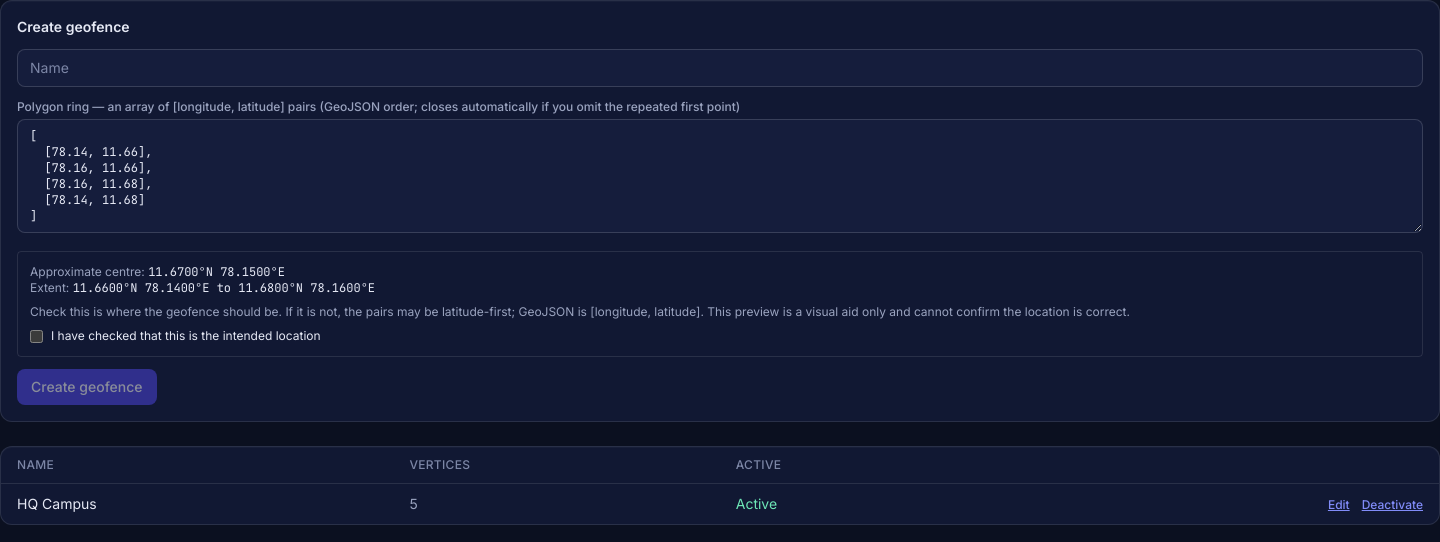
Scenario: GeofenceManagementPanel location preview (D-027) › makes a latitude-first ring visibly land elsewhere, and re-requires confirmation after an edit
The image size is (1440, 542).
Step 1. Click the checkbox labelled "I have checked that this is the intended location" → (36, 336), box x1=30 y1=330 x2=43 y2=342
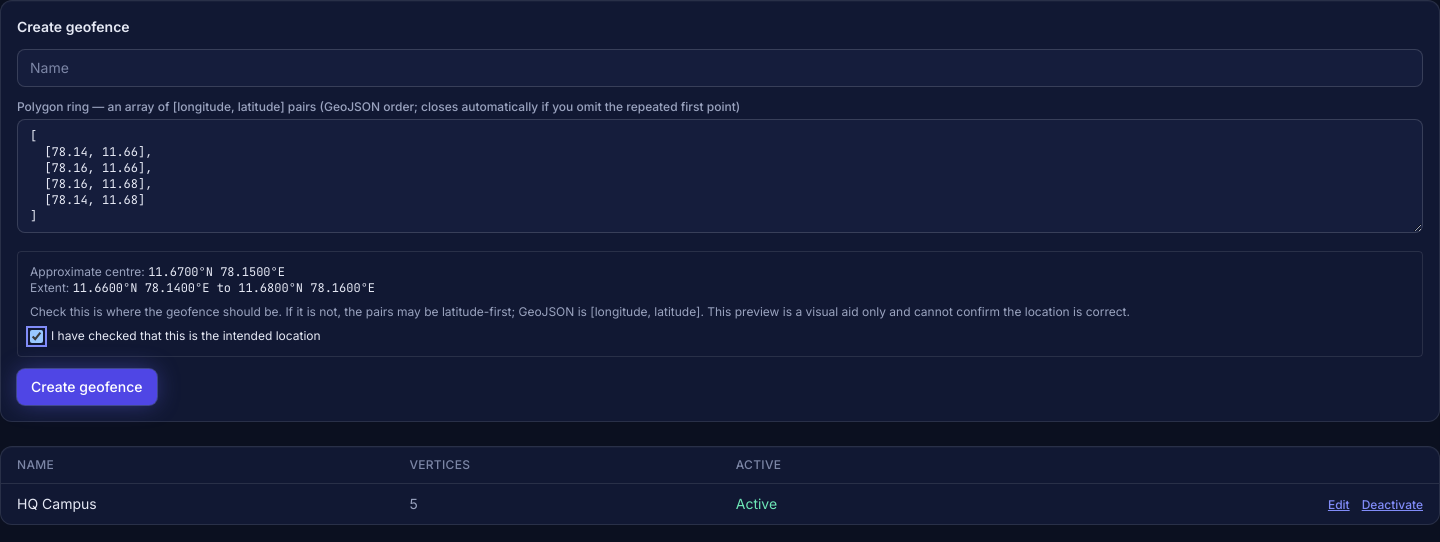
Step 2. Clear the text box named "New polygon ring" → (720, 176), box x1=17 y1=119 x2=1423 y2=233
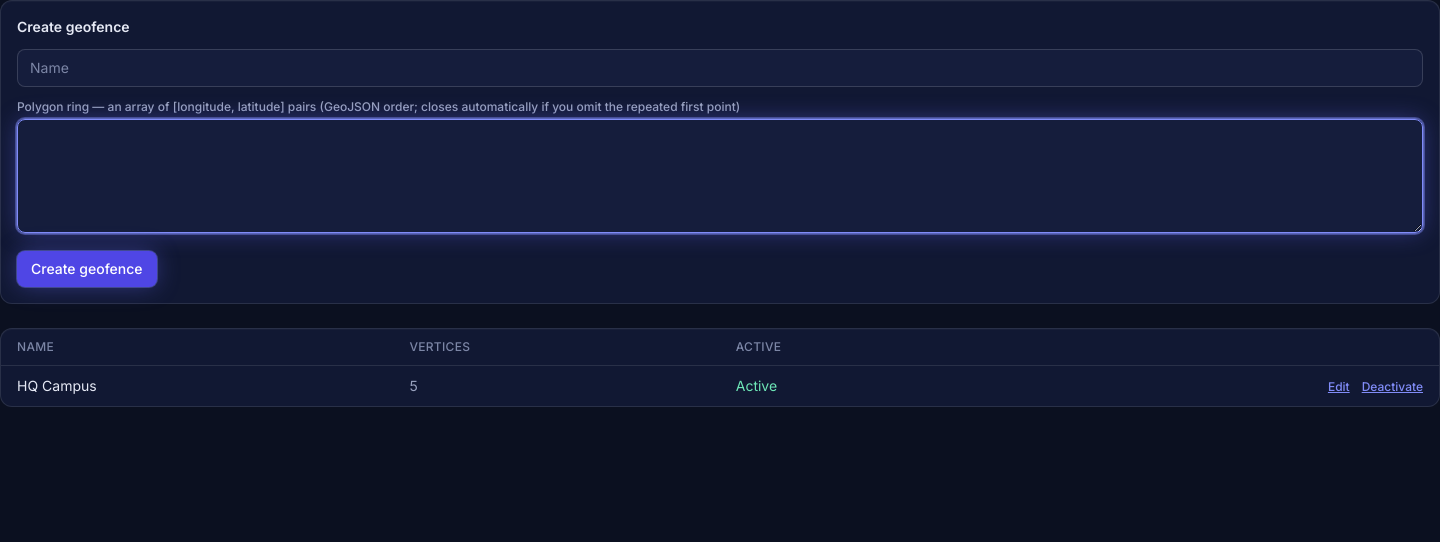
Note: Same square typed latitude-first: valid numbers, but it is the Arctic, not Salem.
Step 3. Type keys "[ [11.66,78.14],[11.66,78.16],[11.68,78.16],[11.68,78.14]]"
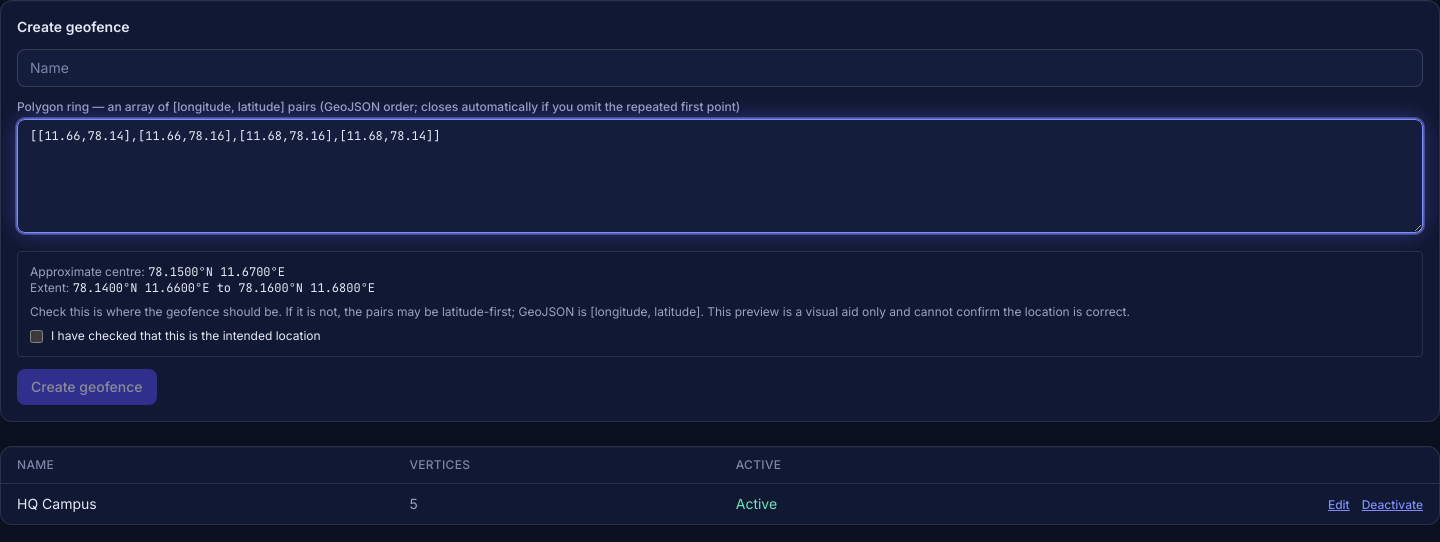
Check: the message shows "78.1500°N 11.6700°E", box x1=148 y1=264 x2=285 y2=280
Check: the checkbox labelled "I have checked that this is the intended location" is not checked, box x1=30 y1=330 x2=43 y2=342
Check: the button "Create geofence" is disabled, box x1=17 y1=369 x2=157 y2=405
